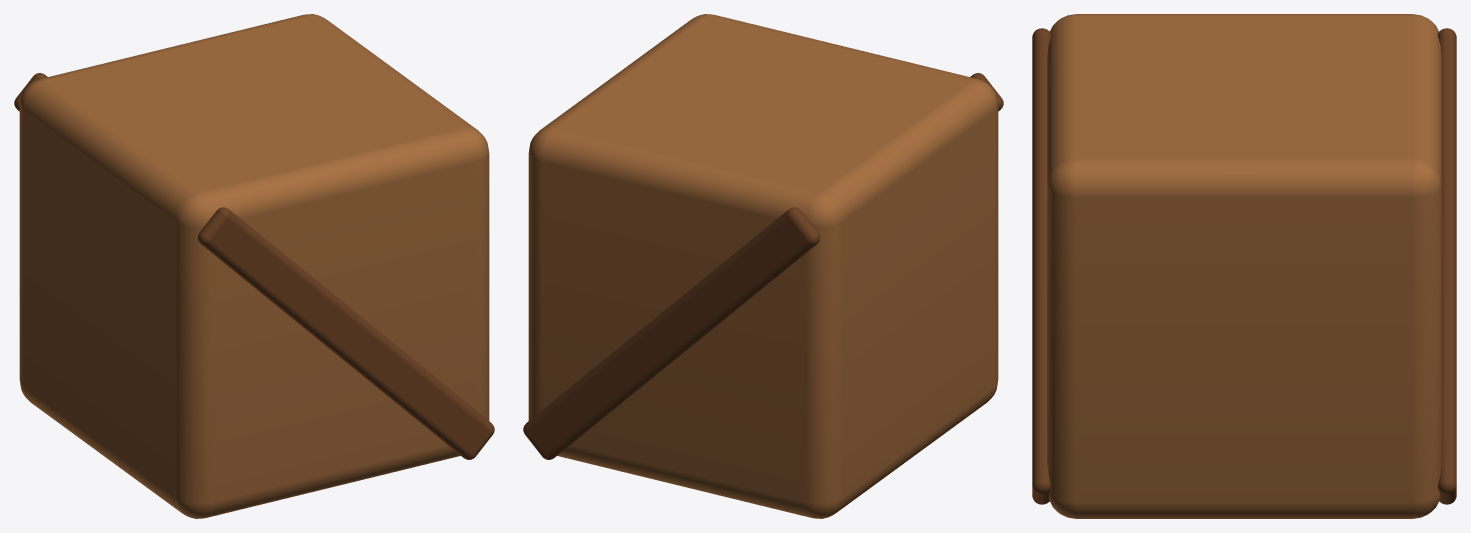
File: crate.glb
3 views of the same model, side by side, from view 1: azimuth 30°, elevation 25°; view 2: azimuth 150°, elevation 25°; view 3: azimuth 270°, elevation 25° (orthographic). The views are drawn at different scales.
Visible parts, largest first — view 1: crate; view 2: crate; view 3: crate.
Boxes of the visible parts, x1,y1,x2,y2 form: crate: (14, 14, 494, 518); crate: (523, 14, 1003, 518); crate: (1032, 14, 1456, 518).
Size of the model in its own units: 0.8 by 0.8 by 0.86.
